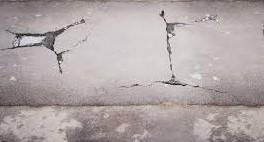alligator-crack: (145, 39, 224, 92)
crack: (1, 98, 264, 116)
pothole: (11, 26, 71, 58), (163, 21, 175, 33)
